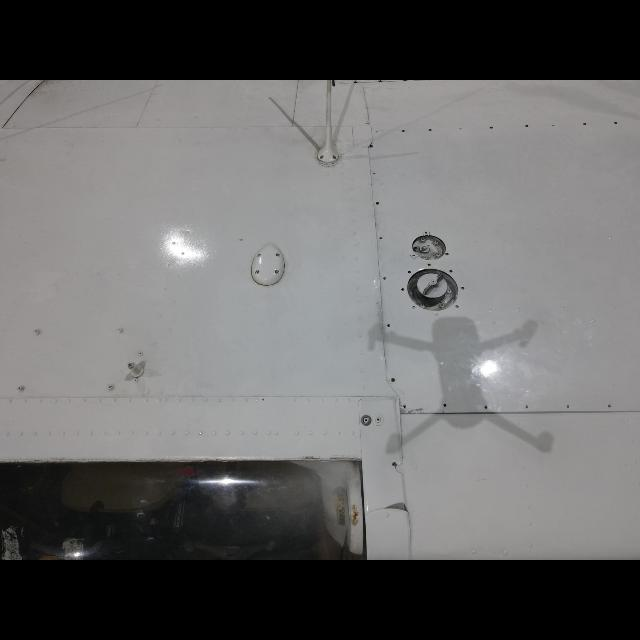Missing Fastener: (550, 122, 558, 128), (482, 404, 490, 410), (564, 403, 572, 409), (378, 235, 384, 241), (400, 286, 406, 292), (411, 304, 417, 310), (386, 322, 392, 328), (442, 402, 448, 408), (606, 403, 612, 409), (370, 171, 378, 175), (524, 404, 532, 408), (458, 126, 464, 130), (410, 254, 416, 258), (426, 263, 432, 267), (444, 252, 450, 256), (382, 276, 388, 280), (460, 286, 466, 290), (407, 270, 411, 274), (449, 269, 453, 273), (455, 305, 459, 309), (423, 232, 429, 234), (434, 314, 438, 316), (404, 404, 406, 408)
